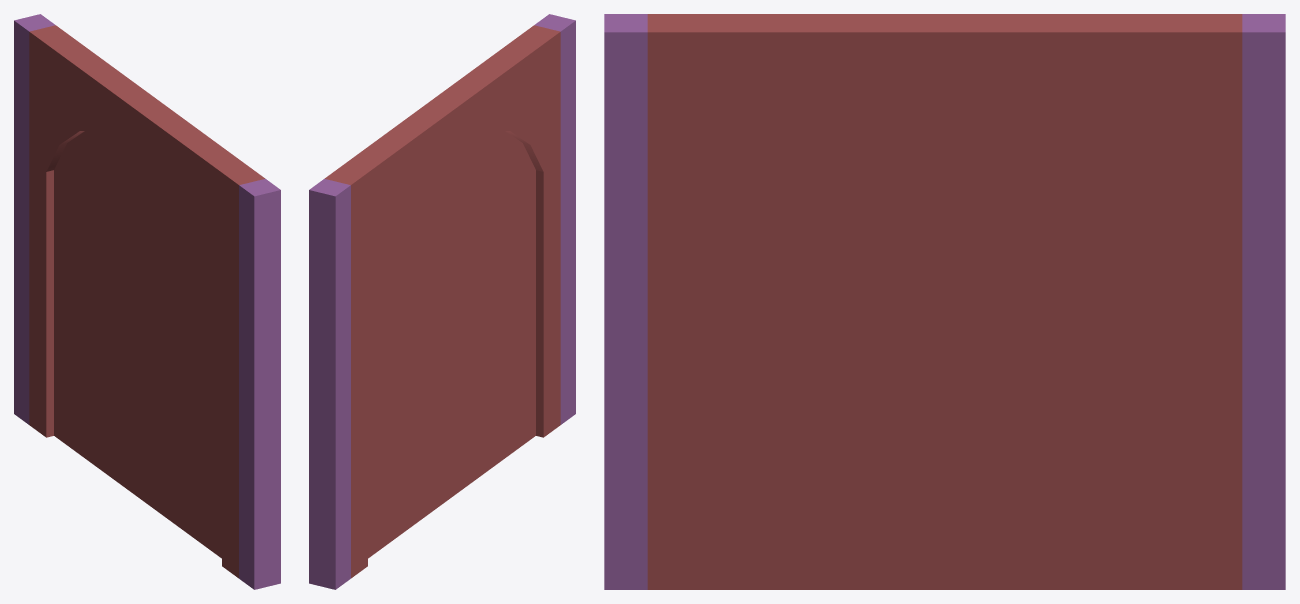
The model's file is celling_wall_02.fbx.
3 views of the same model, side by side, from view 1: azimuth 30°, elevation 25°; view 2: azimuth 150°, elevation 25°; view 3: azimuth 270°, elevation 25° (orthographic). The views are drawn at different scales.
Visible parts, largest first — view 1: celling_wall_polySurface10; view 2: celling_wall_polySurface10; view 3: celling_wall_polySurface10.
Part boxes in pixels (bbox=[...]): celling_wall_polySurface10: bbox=[14, 14, 280, 589]; celling_wall_polySurface10: bbox=[309, 14, 575, 589]; celling_wall_polySurface10: bbox=[604, 14, 1285, 589].
Bounding box in the file's own units: 0.0637 × 0.9033 × 1.
